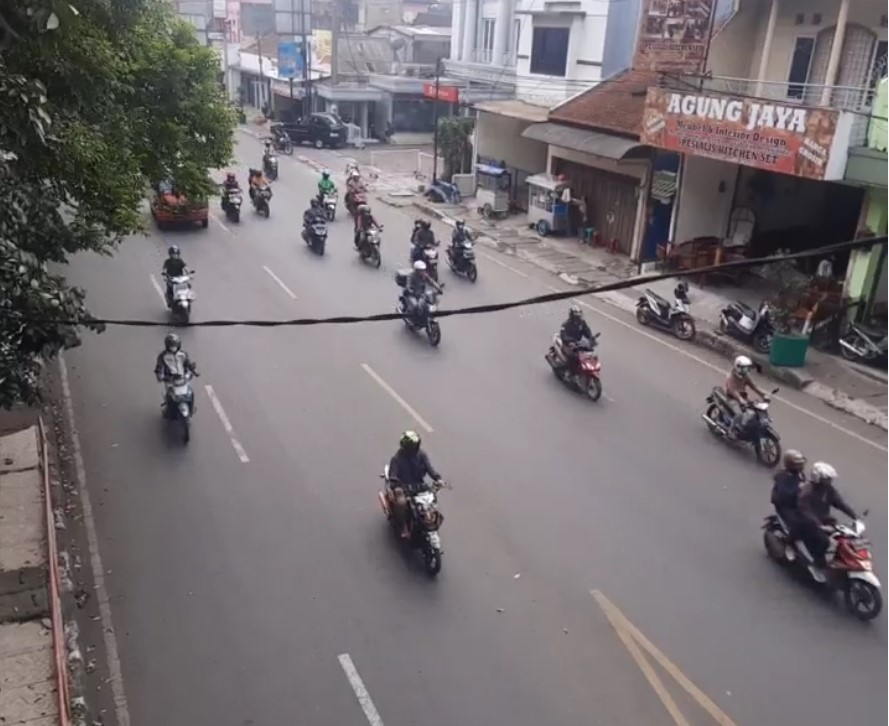motor: (765, 450, 883, 622), (381, 428, 455, 580), (698, 353, 782, 471), (545, 300, 609, 407), (150, 337, 207, 445), (391, 261, 449, 346), (159, 245, 200, 322), (404, 215, 446, 284), (444, 219, 480, 282), (350, 206, 384, 265), (300, 203, 332, 259)
